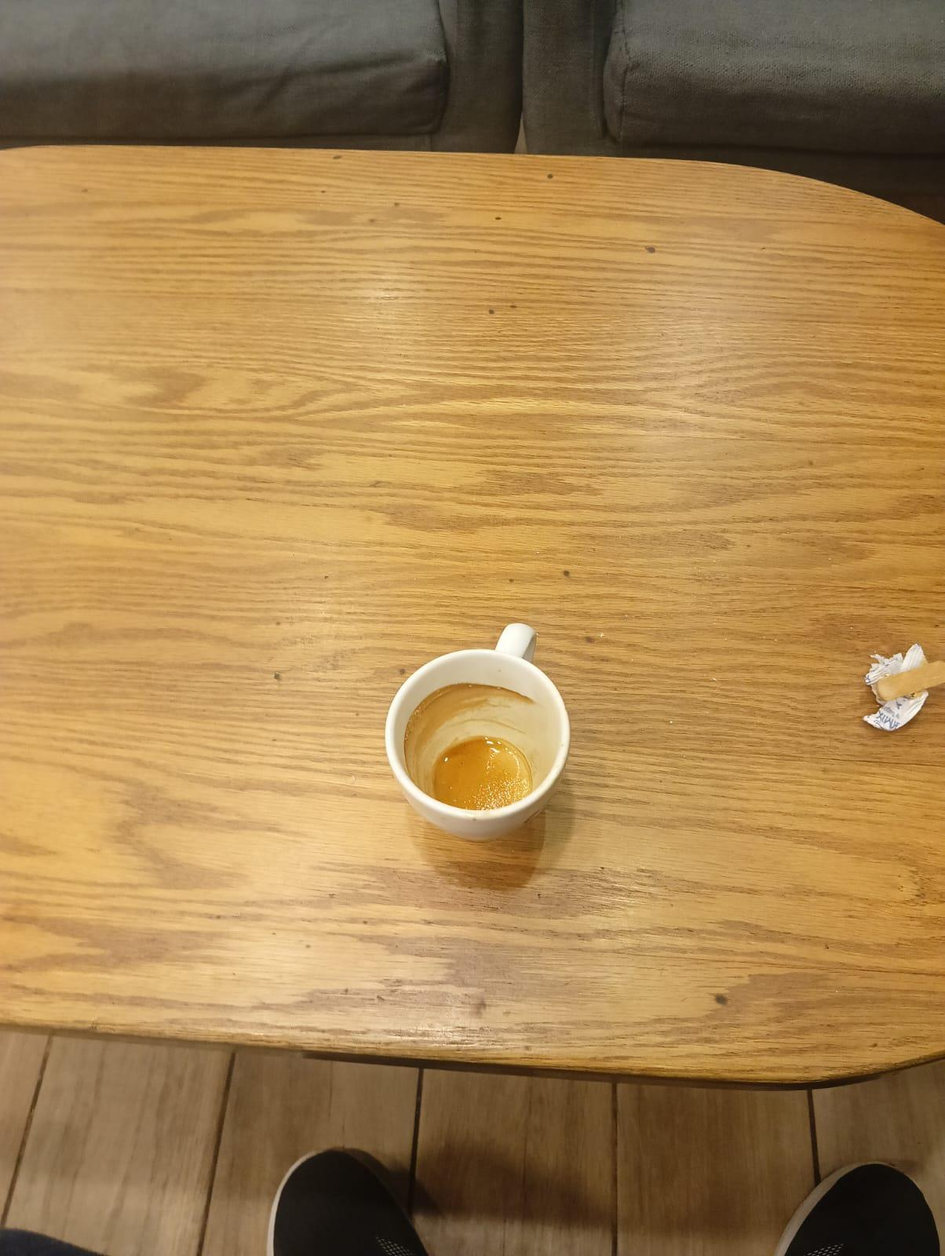cup: (385, 624, 568, 839)
